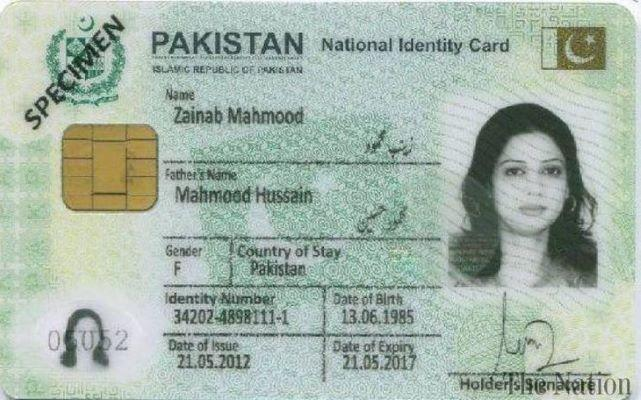fname: (172, 182, 317, 209)
name: (171, 102, 307, 127)
number: (169, 305, 293, 330)
